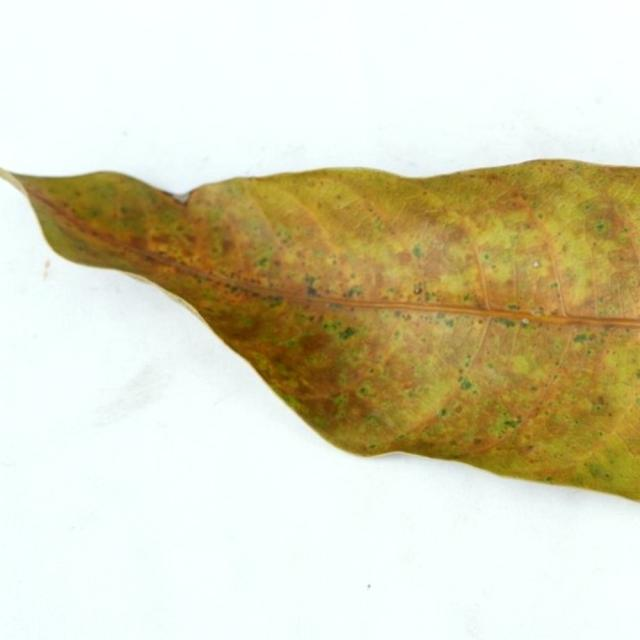Mango: (0, 159, 639, 506)
Powdery_Mildew: (570, 194, 640, 313), (340, 299, 460, 333), (291, 330, 341, 365), (320, 315, 362, 339), (454, 365, 481, 398), (327, 324, 369, 342), (489, 315, 530, 330), (456, 347, 477, 375), (405, 237, 427, 263), (545, 417, 569, 436), (420, 287, 443, 304), (511, 357, 532, 375), (446, 227, 467, 244), (151, 232, 174, 247), (498, 415, 518, 432), (488, 421, 509, 437), (303, 274, 320, 292), (594, 220, 611, 235), (396, 251, 413, 266), (573, 332, 594, 344), (588, 463, 606, 477), (357, 382, 375, 396), (219, 238, 234, 254), (344, 285, 362, 298), (363, 415, 381, 428), (373, 217, 387, 233), (580, 200, 597, 212), (592, 398, 607, 411), (333, 395, 347, 407), (257, 256, 269, 267), (534, 307, 545, 317), (509, 234, 518, 246), (507, 303, 520, 311), (462, 292, 471, 302), (414, 284, 423, 294), (439, 408, 448, 417), (454, 405, 463, 414), (473, 437, 482, 445), (367, 443, 377, 450), (550, 281, 558, 288), (545, 476, 554, 482), (483, 253, 490, 260), (537, 213, 543, 219), (490, 263, 496, 269), (637, 370, 640, 379)
